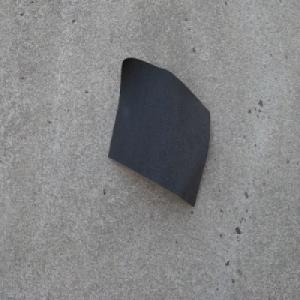PaintChip: (106, 55, 211, 208)
